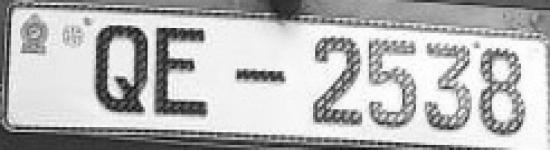-: (232, 63, 291, 90)
2: (299, 30, 367, 129)
3: (423, 36, 475, 138)
5: (367, 30, 421, 134)
8: (475, 42, 532, 142)
E: (156, 24, 225, 128)
Q: (92, 22, 153, 123)
